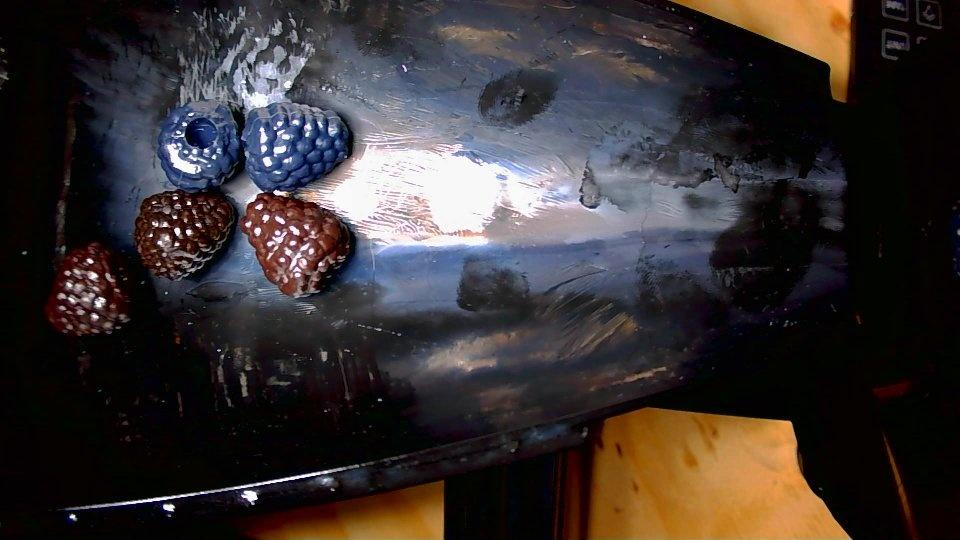berry: (240, 192, 350, 297), (241, 102, 350, 190), (134, 189, 235, 280), (45, 242, 133, 335), (157, 101, 240, 191)
